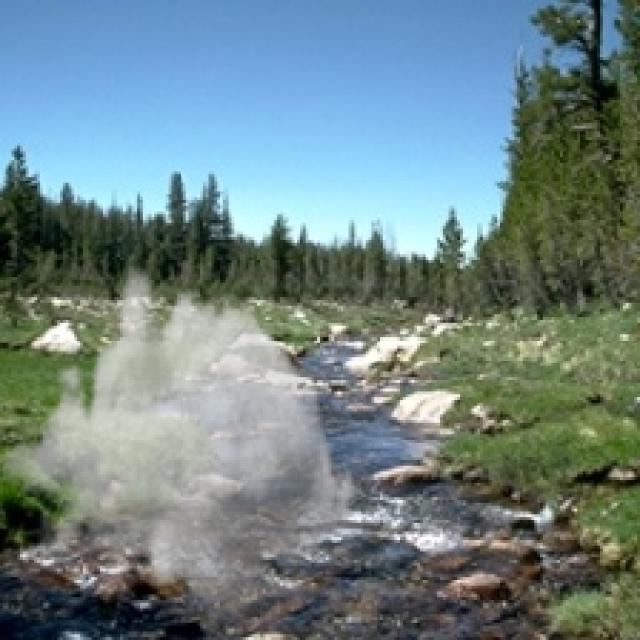smoke: (0, 260, 360, 629)
